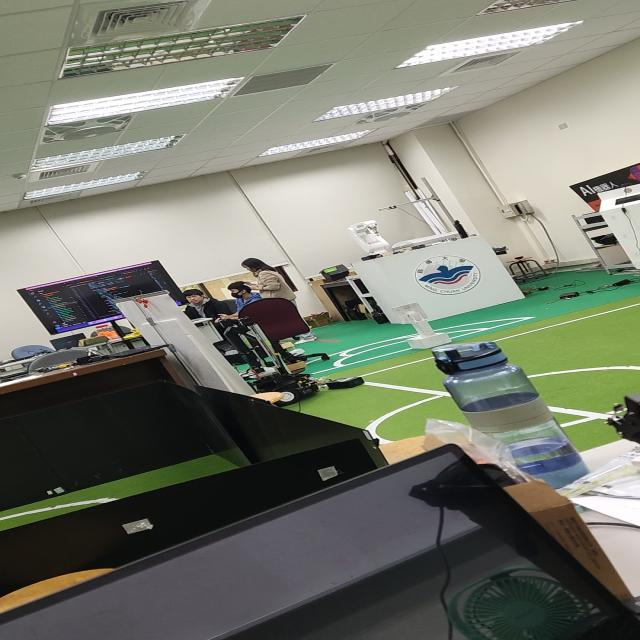person: (239, 246, 312, 341), (225, 268, 261, 301), (178, 284, 207, 314)
